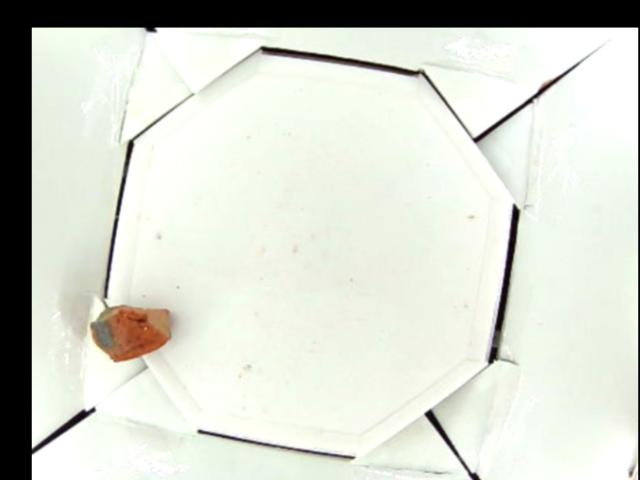Brisk: (87, 302, 171, 363)
